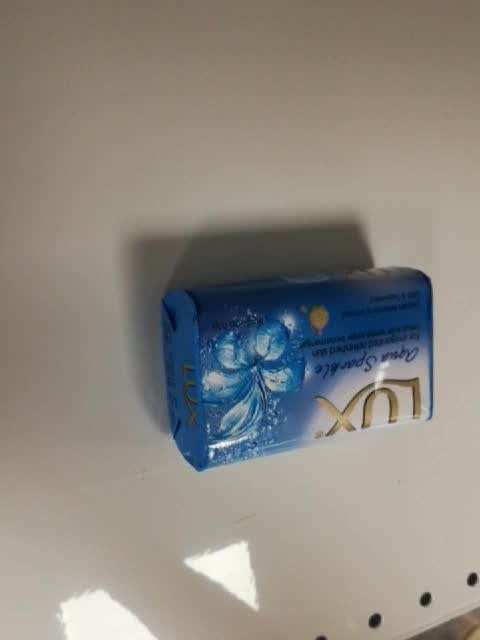soap: (158, 265, 435, 474)
